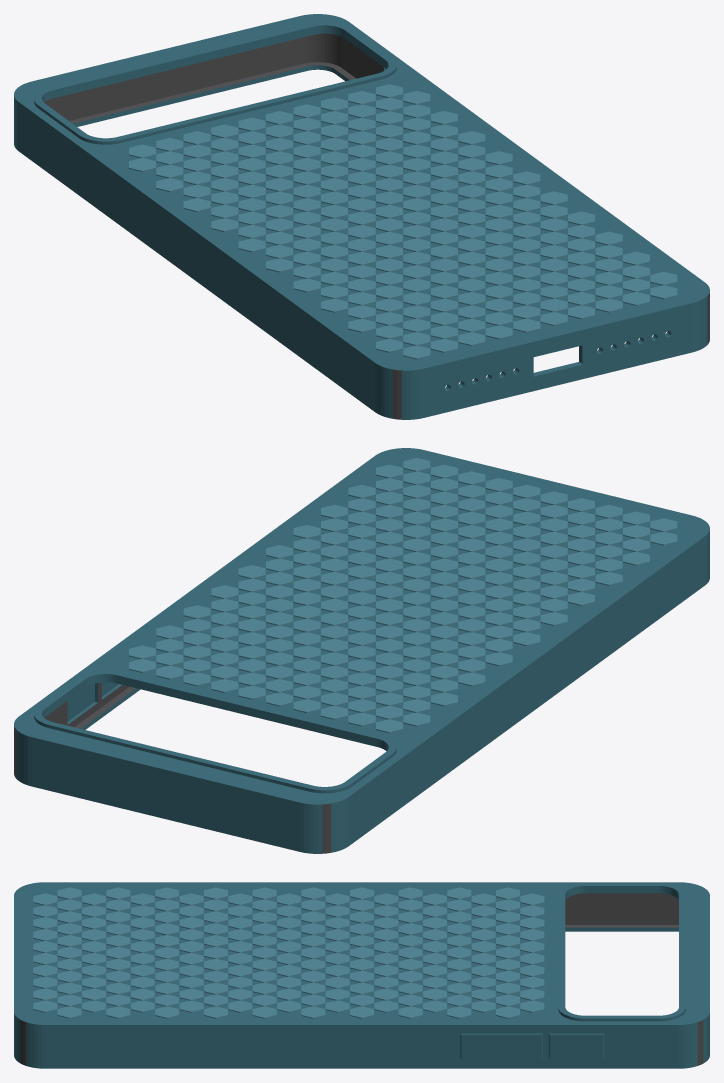
File: kilif-bar-altigen-okyanus.glb
The picture shows the model from 3 angles, top to bottom: view 1: azimuth 30°, elevation 25°; view 2: azimuth 150°, elevation 25°; view 3: azimuth 270°, elevation 25°; orthographic projection. The views are drawn at different scales.
Parts seen in each view (by area): view 1: Kilif; view 2: Kilif; view 3: Kilif.
Boxes of the visible parts, x1,y1,x2,y2 form: Kilif: [14, 14, 709, 419]; Kilif: [14, 448, 709, 853]; Kilif: [14, 882, 709, 1068].
Bounding box in the file's own units: 0.0774 × 0.0117 × 0.1584.
